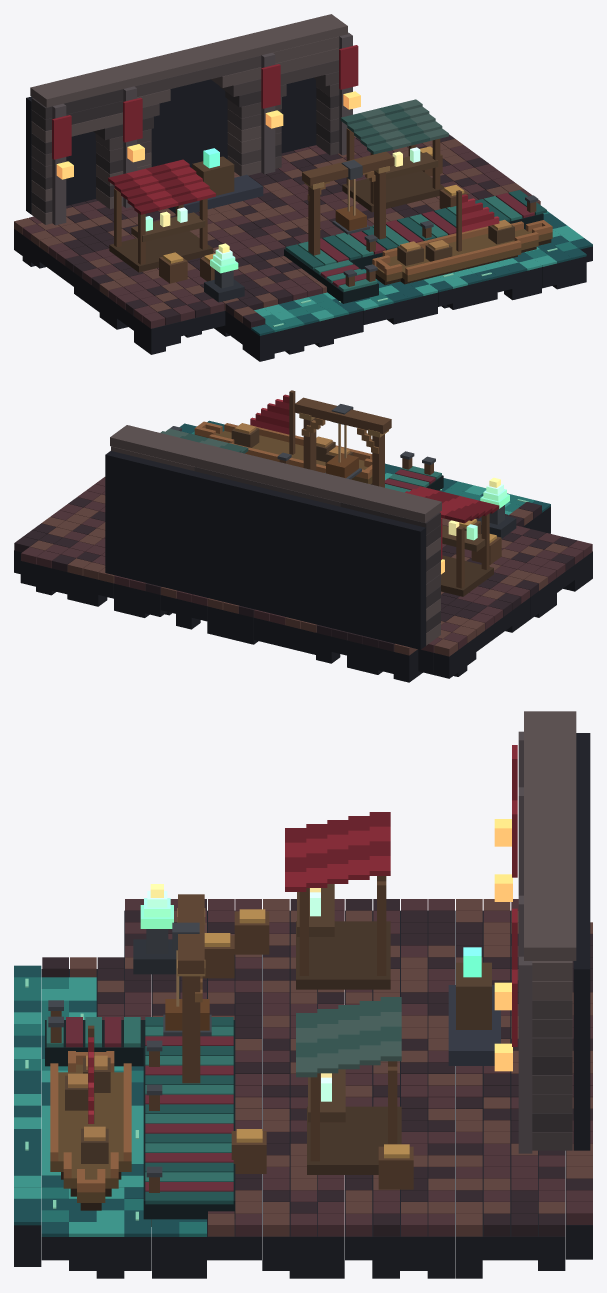
The model's file is preview-black-market.glb.
3 renders of one model, top to bottom at view 1: azimuth 30°, elevation 25°; view 2: azimuth 150°, elevation 25°; view 3: azimuth 270°, elevation 25°, orthographic. The views are drawn at different scales.
Parts seen in each view (by area): view 1: Terrain, Preview_Auction_Wall, Preview_Market_Stalls, Floating_Bedrock, Preview_Vault, Preview_Harbor_Skiff, Preview_Harbor_Pier, Preview_Harbor_Water, Preview_Harbor_Gantry, Preview_Banner, Preview_Auction_Dais, Preview_Contraband_Crates (+5 smaller); view 2: Preview_Vault, Terrain, Floating_Bedrock, Preview_Auction_Wall, Preview_Harbor_Skiff, Preview_Market_Stalls, Preview_Harbor_Gantry, Preview_Harbor_Water, Preview_Harbor_Pier, Preview_Contraband_Crates, Brazier, Preview_Harbor_Piles (+1 smaller); view 3: Terrain, Preview_Market_Stalls, Preview_Auction_Wall, Floating_Bedrock, Preview_Harbor_Pier, Preview_Harbor_Water, Preview_Harbor_Skiff, Preview_Vault, Preview_Contraband_Crates, Preview_Harbor_Gantry, Preview_Auction_Dais, Preview_Lantern (+4 smaller).
Part boxes in pixels (x1,y1,x2,y2): Terrain: [14, 134, 540, 329]; Preview_Auction_Wall: [30, 14, 352, 225]; Preview_Market_Stalls: [108, 99, 448, 272]; Floating_Bedrock: [14, 229, 592, 361]; Preview_Vault: [26, 77, 316, 214]; Preview_Harbor_Skiff: [372, 190, 552, 285]; Preview_Harbor_Pier: [284, 190, 546, 303]; Preview_Harbor_Water: [251, 211, 592, 335]; Preview_Harbor_Gantry: [302, 151, 394, 255]; Preview_Banner: [52, 45, 358, 159]; Preview_Auction_Dais: [168, 156, 263, 213]; Preview_Contraband_Crates: [159, 146, 468, 283]; Preview_Vault: [105, 451, 425, 649]; Terrain: [14, 477, 592, 656]; Floating_Bedrock: [14, 506, 592, 682]; Preview_Auction_Wall: [110, 425, 441, 645]; Preview_Harbor_Skiff: [194, 390, 372, 484]; Preview_Market_Stalls: [160, 428, 499, 596]; Preview_Harbor_Gantry: [294, 397, 391, 487]; Preview_Harbor_Water: [179, 420, 550, 514]; Preview_Harbor_Pier: [385, 466, 443, 492]; Preview_Contraband_Crates: [459, 519, 501, 564]; Brazier: [478, 505, 516, 538]; Preview_Harbor_Piles: [170, 426, 435, 474]; Terrain: [42, 899, 592, 1236]; Preview_Market_Stalls: [285, 812, 401, 1174]; Preview_Auction_Wall: [518, 711, 576, 1153]; Floating_Bedrock: [14, 910, 592, 1278]; Preview_Harbor_Pier: [45, 1017, 235, 1219]; Preview_Harbor_Water: [14, 965, 206, 1236]; Preview_Harbor_Skiff: [50, 1025, 131, 1210]; Preview_Vault: [573, 733, 590, 1150]; Preview_Contraband_Crates: [202, 909, 413, 1189]; Preview_Harbor_Gantry: [163, 894, 211, 1083]; Preview_Auction_Dais: [448, 962, 500, 1065]; Preview_Lantern: [494, 819, 512, 1071].
Bounding box in the file's own units: 8.4 × 3.08 × 6.3.
